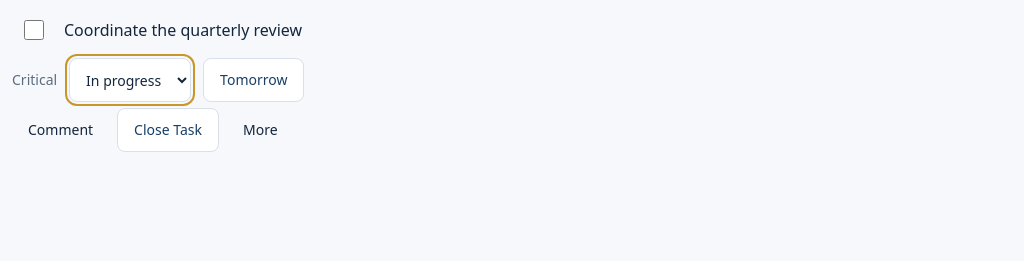
Test: TaskListRow › gives focus back to the control when a conflict is stood down
Expected: the button with test id "task-close-trigger" is enabled, [117,108,219,152]
Select "Blocked" in the dropdown at (130, 80), box [69,58,191,102]
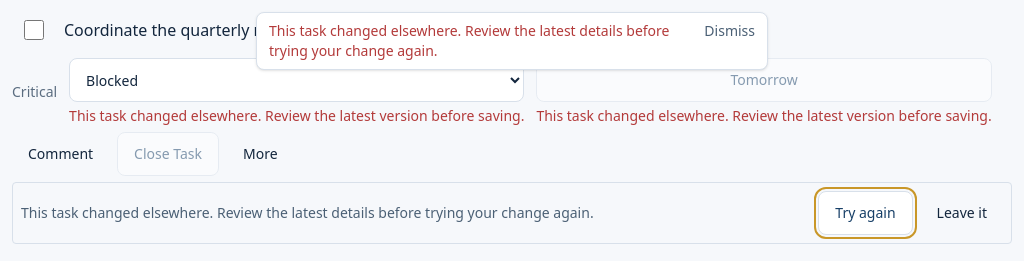
Click the button with test id "task-list-row-conflict-dismiss".
click(962, 213)  # box [921,191,1003,235]
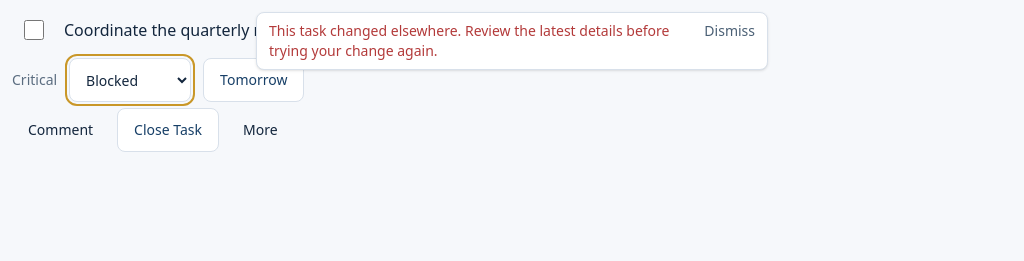
Expected: the element with test id "task-list-row-conflict" is gone
